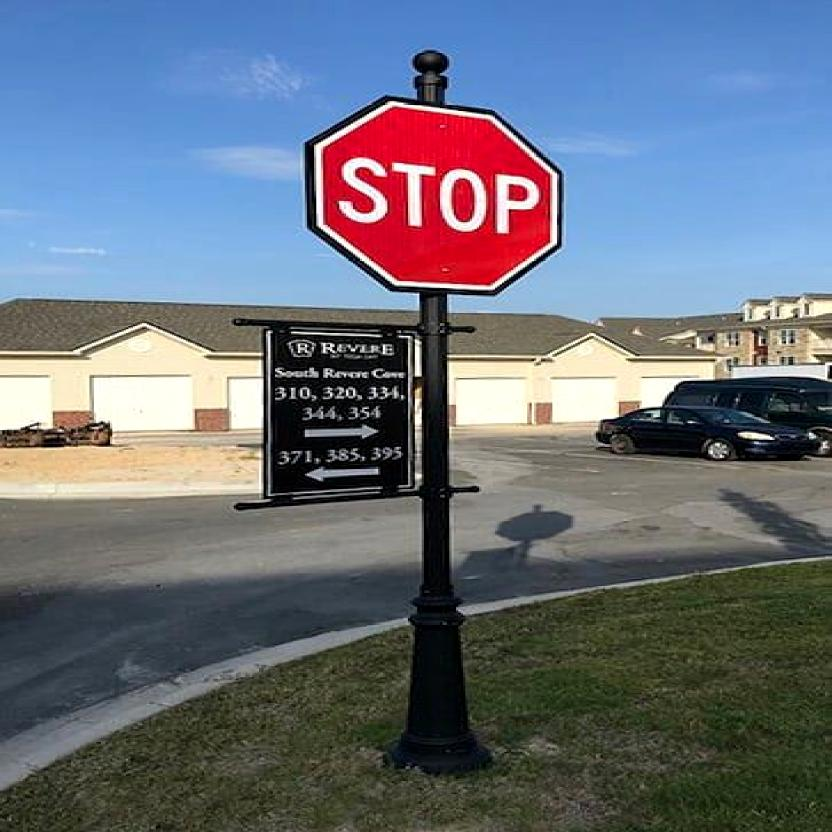Pole: (418, 296, 458, 767)
Sign: (309, 105, 565, 290)
